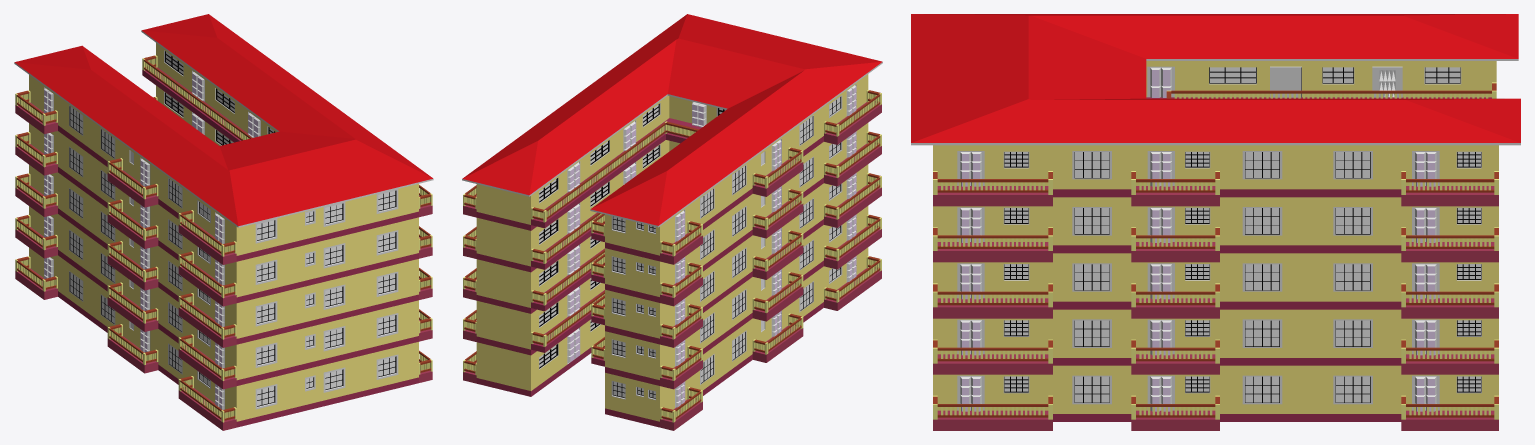
The model's file is Building 1.fbx.
3 renders of one model, left to right at view 1: azimuth 30°, elevation 25°; view 2: azimuth 150°, elevation 25°; view 3: azimuth 270°, elevation 25°, orthographic. The views are drawn at different scales.
Parts seen in each view (by area): view 1: building_003; view 2: building_003; view 3: building_003.
Boxes of the visible parts, x1,y1,x2,y2 form: building_003: [14, 14, 433, 430]; building_003: [462, 14, 882, 430]; building_003: [911, 14, 1520, 430].
Size of the model in its own units: 1740 by 1781 by 3233.
